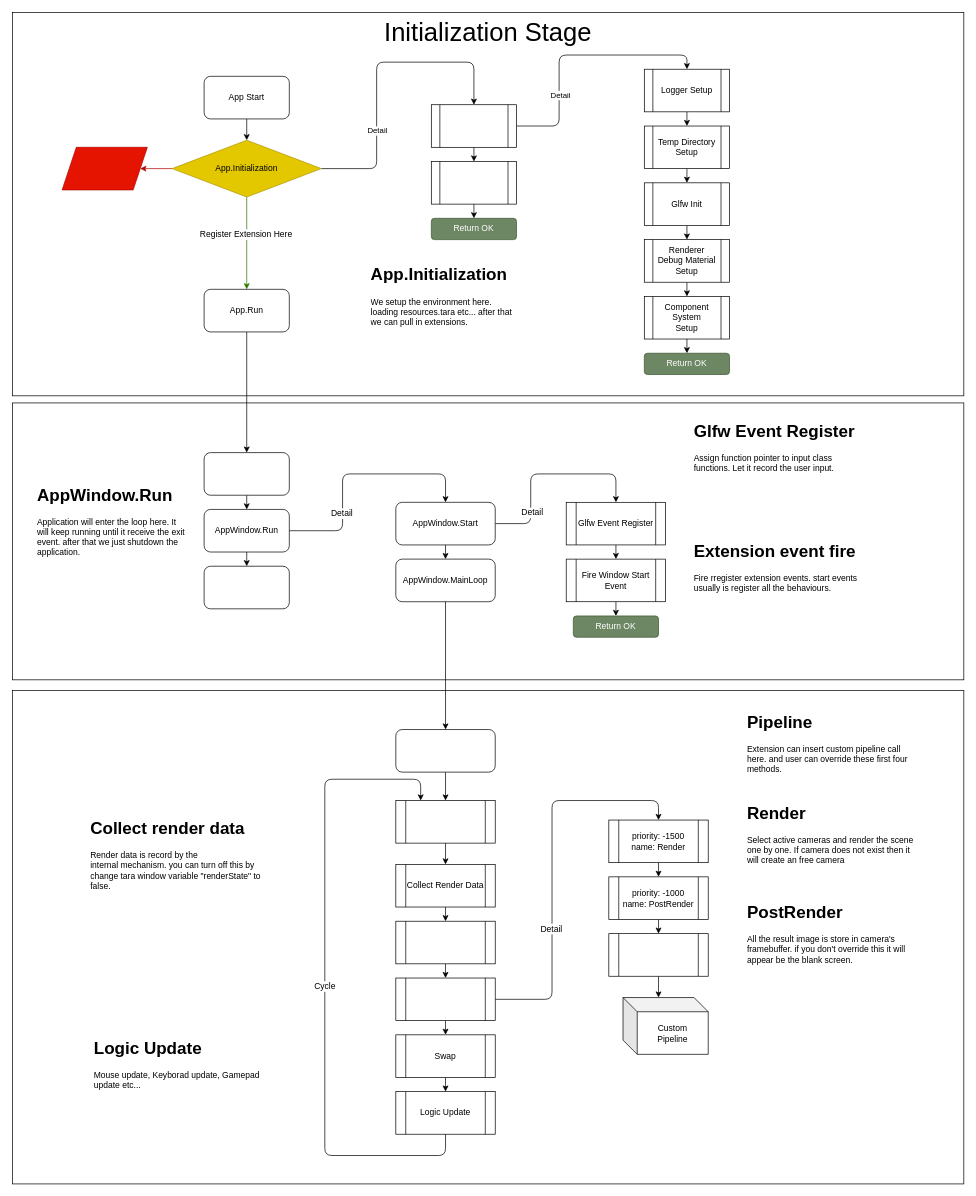
This 976x1196 diagram has some shape labels left out. The box of each missing label's shape, as (x1, y1, x2, y2) in pixels:
Clean Buffer: (395, 800, 495, 843)
Create AppWindow: (203, 452, 289, 495)
Cycle Stage: (12, 690, 964, 1184)
End: (61, 147, 147, 190)
Enter Cycle: (395, 729, 495, 772)
Fire Pipeline: (395, 977, 495, 1021)
Poll Glfw Events: (395, 921, 495, 964)
priority: 0 name: Update: (608, 933, 708, 976)
Resources Loading: (431, 161, 517, 204)
Tara Application Initialization: (431, 104, 517, 147)
Tara Application Shutdown: (203, 566, 289, 609)
Window Setup Stage: (12, 402, 964, 680)
